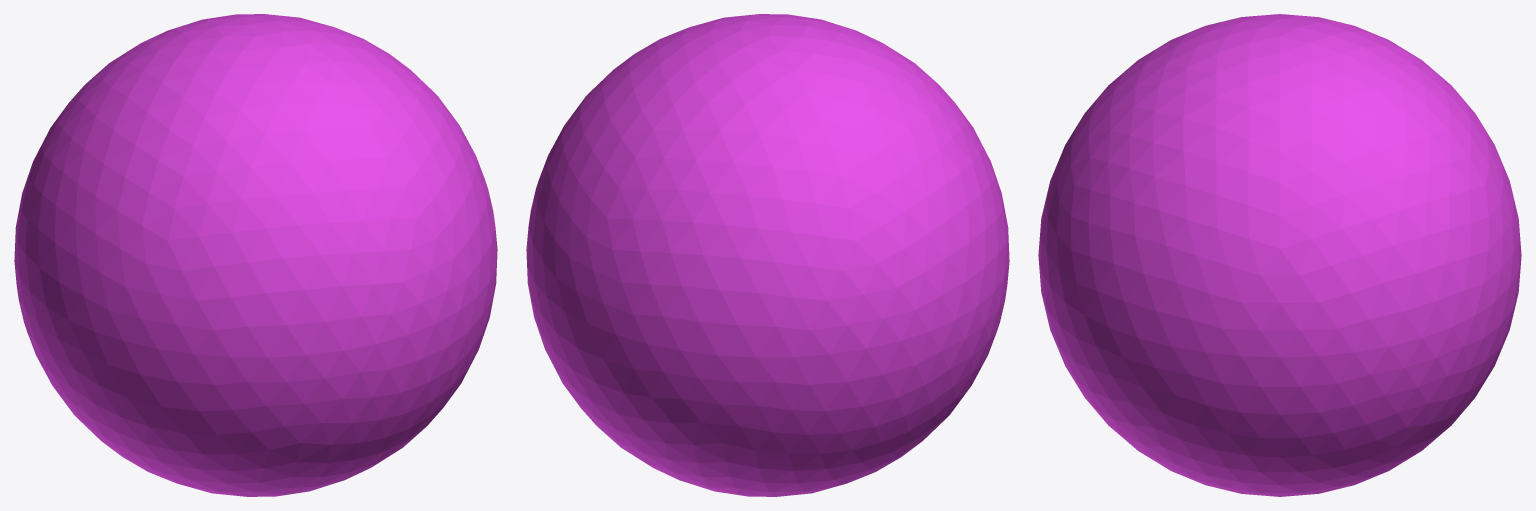
Rendered from basic_ball.glb.
3 views of the same model, side by side, from view 1: azimuth 30°, elevation 25°; view 2: azimuth 150°, elevation 25°; view 3: azimuth 270°, elevation 25° (orthographic).
Parts seen in each view (by area): view 1: ball; view 2: ball; view 3: ball.
Boxes of the visible parts, x1,y1,x2,y2 form: ball: (14, 14, 497, 496); ball: (526, 14, 1009, 496); ball: (1038, 14, 1521, 496).
Size of the model in its own units: 1.92 by 1.92 by 1.92.
